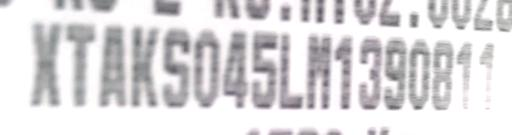letter: (62, 21, 96, 104), (28, 21, 60, 106), (129, 23, 159, 108), (220, 26, 250, 109), (161, 26, 191, 107), (99, 24, 127, 107), (250, 26, 278, 109), (192, 26, 220, 107), (276, 29, 304, 110), (304, 29, 332, 110), (429, 32, 455, 109), (381, 33, 407, 110), (356, 32, 380, 109), (334, 29, 356, 110), (407, 33, 429, 110), (455, 34, 475, 111)
